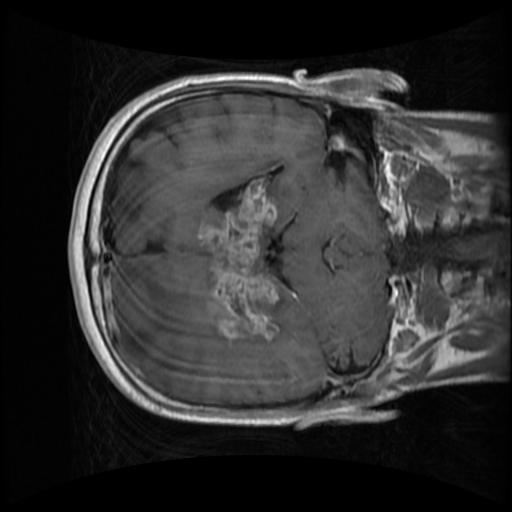glioma: (196, 177, 280, 344)
